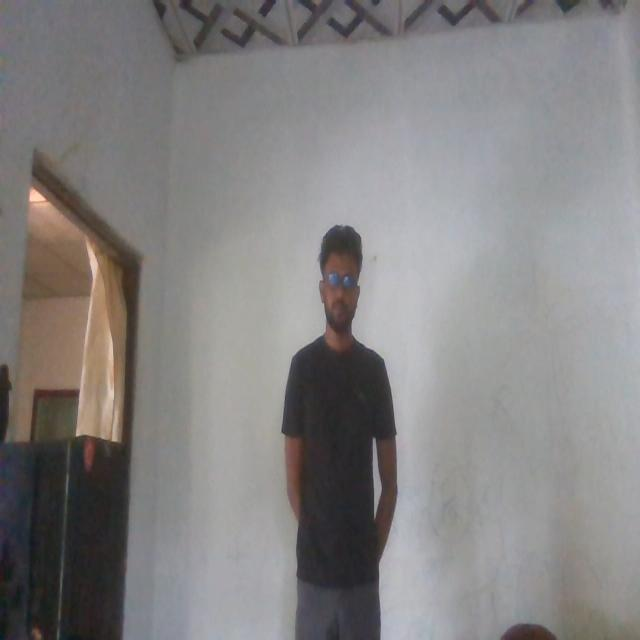Person: (279, 219, 402, 640)
